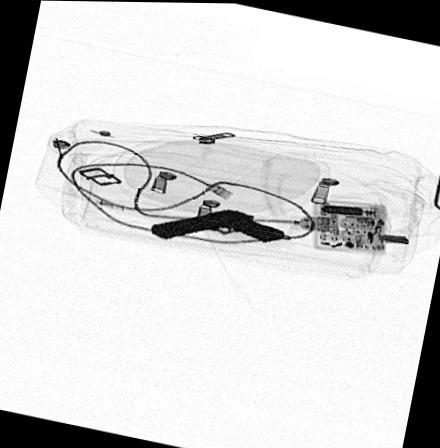Gun: (148, 206, 288, 242)
